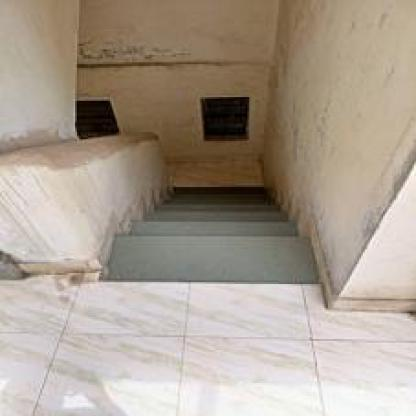stair_down: (143, 163, 290, 262)
